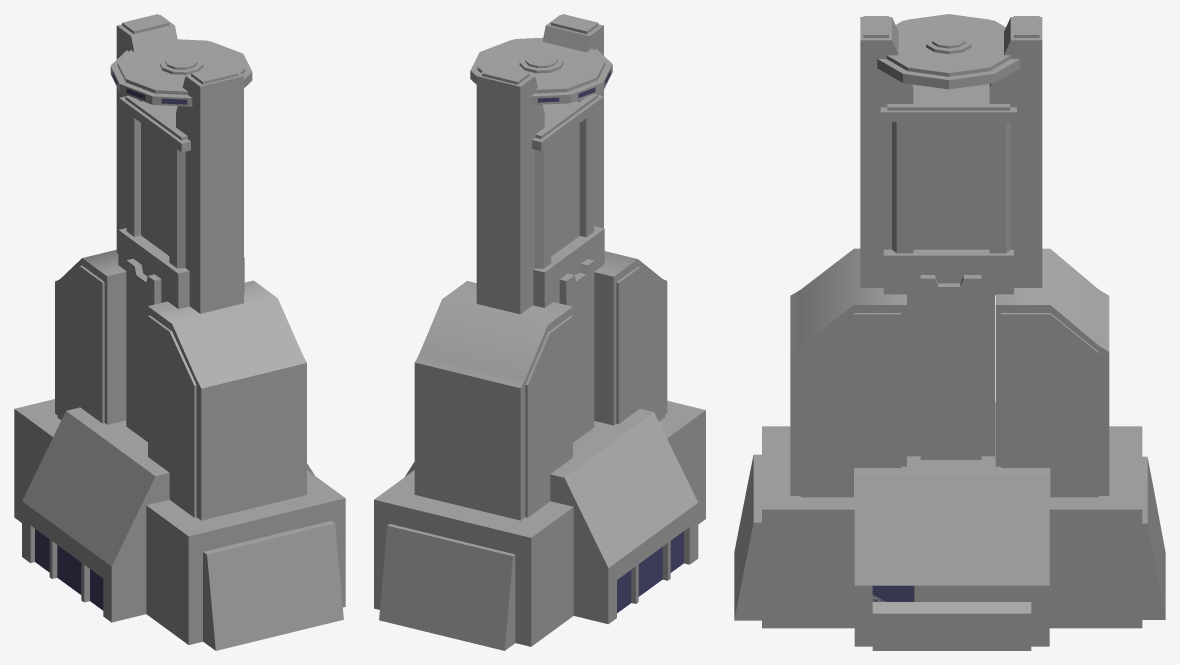
Rendered from NEW_cyber_build2.fbx.
3 views of the same model, side by side, from view 1: azimuth 30°, elevation 25°; view 2: azimuth 150°, elevation 25°; view 3: azimuth 270°, elevation 25° (orthographic). The views are drawn at different scales.
Parts seen in each view (by area): view 1: pCube17, pCube18, pCube24, pCube19, pCube20, pCylinder1, pCube22; view 2: pCube17, pCube19, pCube24, pCube18, pCube20, pCylinder1, pCube22; view 3: pCube17, pCube24, pCube18, pCube19, pCube20, pCylinder1, pCube22.
Boxes of the visible parts, left/top/right/bottom form: pCube17: left=14, top=399, right=345, bottom=650; pCube18: left=148, top=280, right=306, bottom=520; pCube24: left=116, top=14, right=243, bottom=313; pCube19: left=55, top=249, right=126, bottom=424; pCube20: left=118, top=228, right=244, bottom=441; pCylinder1: left=110, top=39, right=252, bottom=106; pCube22: left=119, top=95, right=190, bottom=152; pCube17: left=374, top=400, right=705, bottom=650; pCube19: left=414, top=281, right=572, bottom=520; pCube24: left=476, top=14, right=603, bottom=314; pCube18: left=594, top=251, right=667, bottom=425; pCube20: left=533, top=226, right=604, bottom=442; pCylinder1: left=470, top=37, right=612, bottom=104; pCube22: left=532, top=94, right=603, bottom=150; pCube17: left=734, top=402, right=1165, bottom=650; pCube24: left=860, top=16, right=1042, bottom=287; pCube18: left=790, top=248, right=906, bottom=497; pCube19: left=995, top=248, right=1109, bottom=497; pCube20: left=883, top=249, right=1013, bottom=459; pCylinder1: left=877, top=14, right=1020, bottom=89; pCube22: left=880, top=84, right=1016, bottom=121.
Size of the model in its own units: 35.84 by 75.26 by 52.45.
